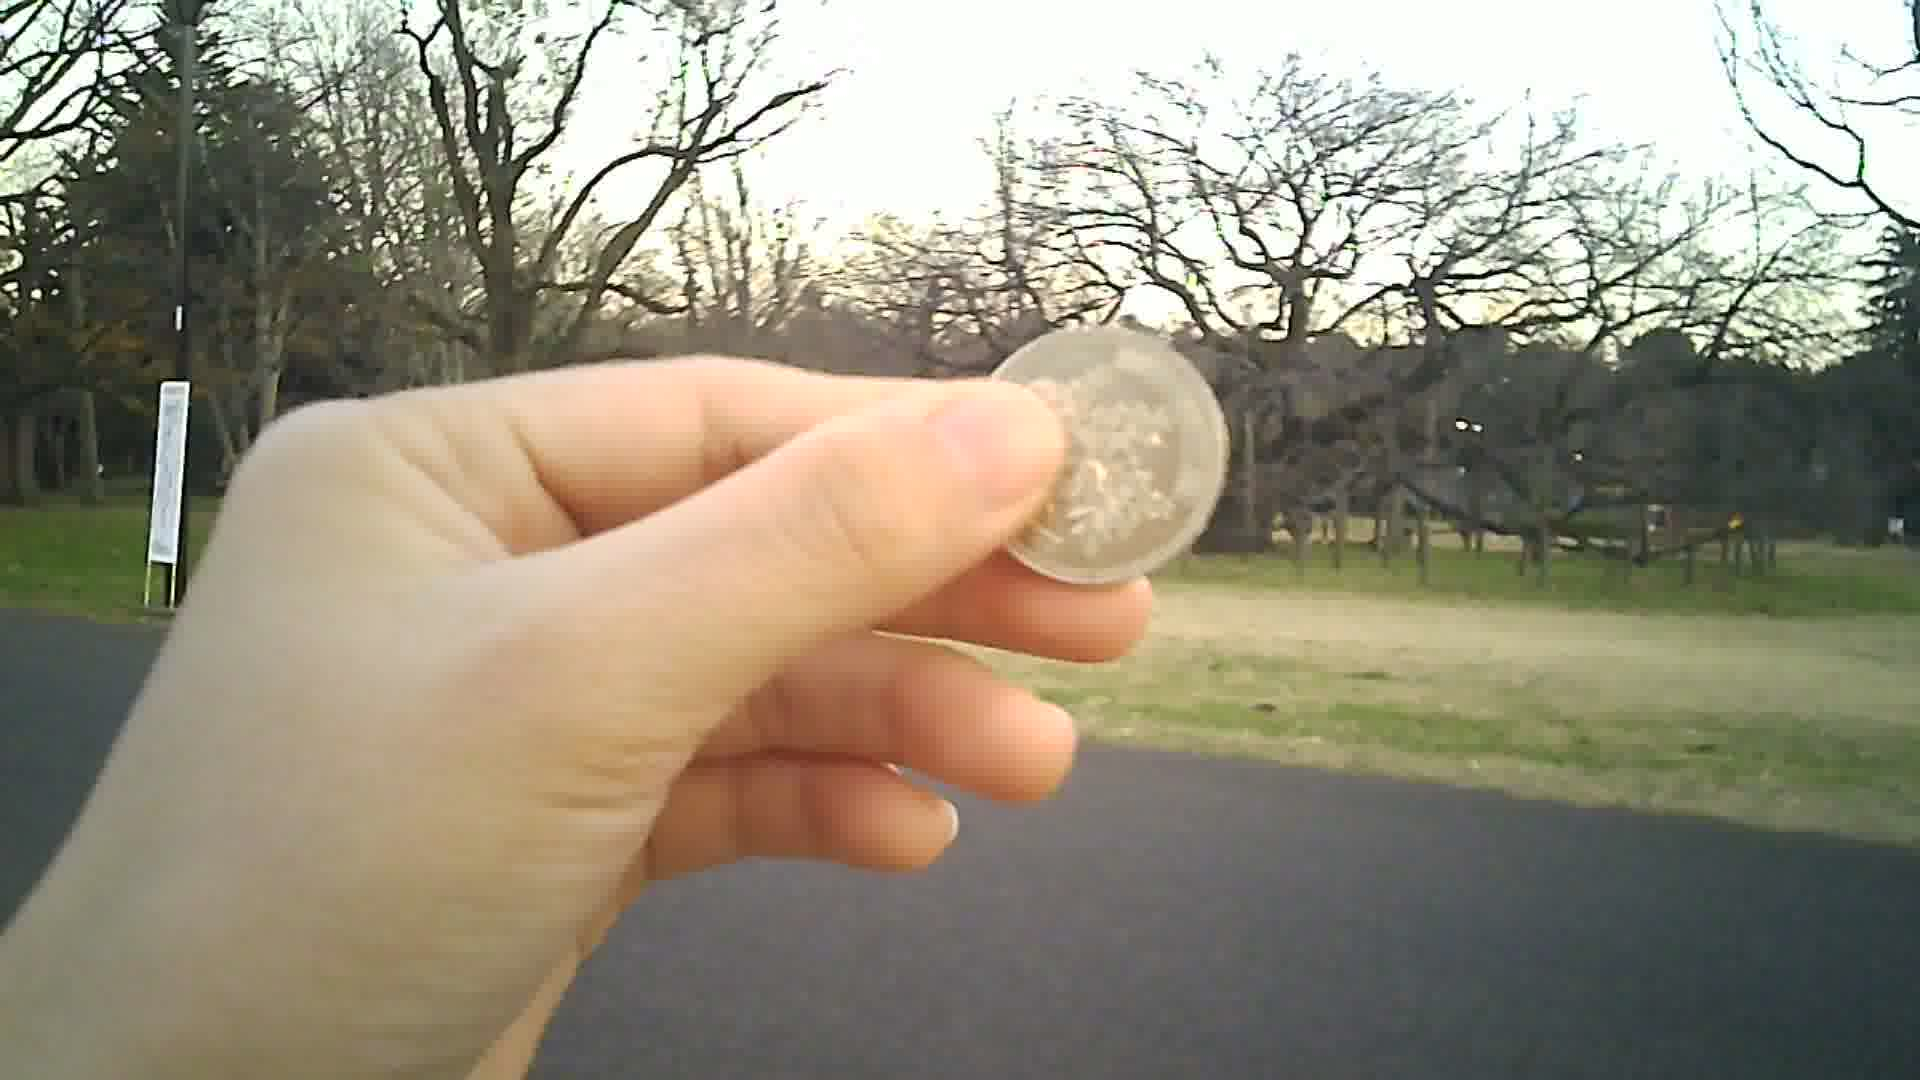500 Yen: (969, 310, 1232, 593)
